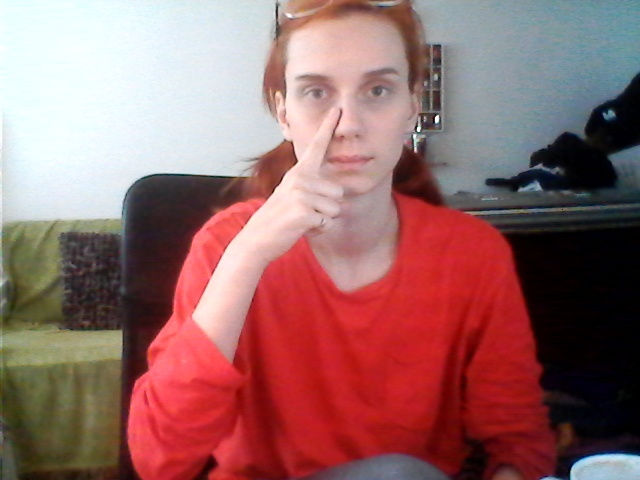mama: (287, 106, 354, 244)
